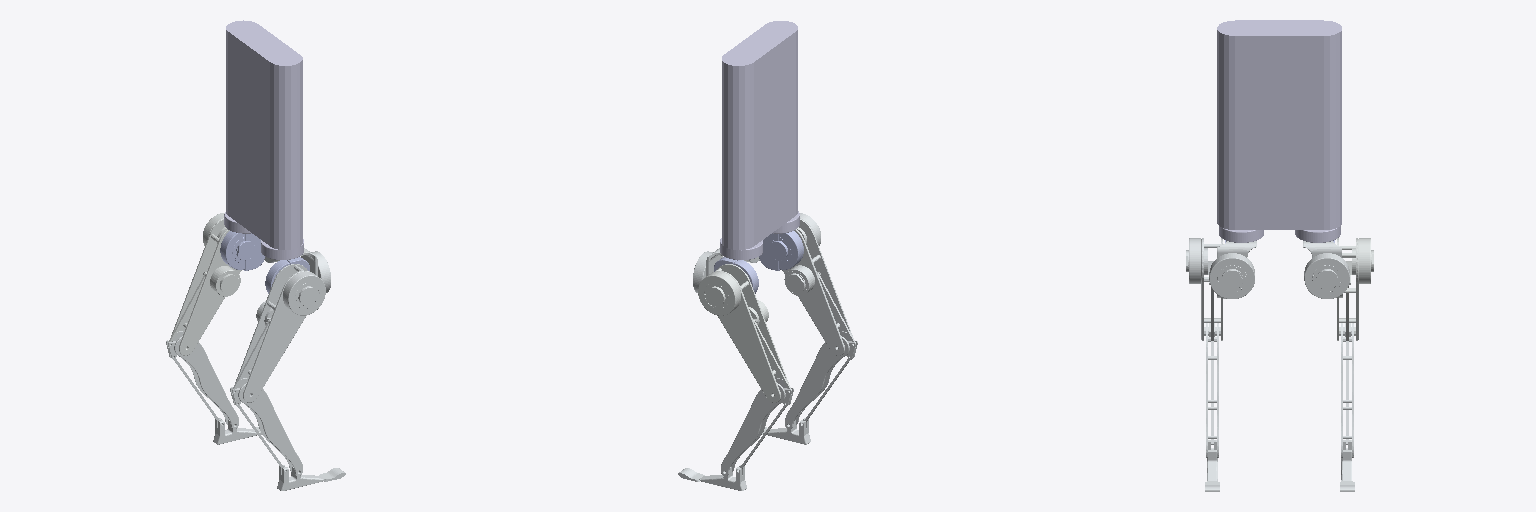
URDF robot description (human_robot_hector):
<?xml version="1.0" encoding="utf-8"?>
<!-- This URDF was automatically created by SolidWorks to URDF Exporter! Originally created by [author] ([email redacted]) 
     Commit Version: 1.6.0-4-g7f85cfe  Build Version: 1.6.7995.38578
     For more information, please see http://wiki.ros.org/sw_urdf_exporter -->
<robot
  name="human_robot_hector">
  <link
    name="base_link">
    <inertial>
      <origin
        xyz="-2.6714E-08 -2.6353E-07 -0.0065503"
        rpy="0 0 0" />
      <mass
        value="88.72" />
      <inertia
        ixx="4.6483"
        ixy="-1.0811E-07"
        ixz="6.5342E-08"
        iyy="3.659"
        iyz="6.4458E-07"
        izz="1.1897" />
    </inertial>
    <visual>
      <origin
        xyz="0 0 0"
        rpy="0 0 0" />
      <geometry>
        <mesh
          filename="package://human_robot_hector/meshes/base_link.STL" />
      </geometry>
      <material
        name="">
        <color
          rgba="0.83922 0.83922 0.92157 1" />
      </material>
    </visual>
    <collision>
      <origin
        xyz="0 0 0"
        rpy="0 0 0" />
      <geometry>
        <mesh
          filename="package://human_robot_hector/meshes/base_link.STL" />
      </geometry>
    </collision>
  </link>

  <link
    name="R_hip_Link">
    <inertial>
      <origin
        xyz="0.088278 -0.023018 -0.071371"
        rpy="0 0 0" />
      <mass
        value="1.4628" />
      <inertia
        ixx="0.0039716"
        ixy="0.0003283"
        ixz="0.00074132"
        iyy="0.0036146"
        iyz="-0.00033204"
        izz="0.0030335" />
    </inertial>
    <visual>
      <origin
        xyz="0 0 0"
        rpy="0 0 0" />
      <geometry>
        <mesh
          filename="package://human_robot_hector/meshes/R_hip_Link.STL" />
      </geometry>
      <material
        name="">
        <color
          rgba="0.89804 0.91765 0.92941 1" />
      </material>
    </visual>
    <collision>
      <origin
        xyz="0 0 0"
        rpy="0 0 0" />
      <geometry>
        <mesh
          filename="package://human_robot_hector/meshes/R_hip_Link.STL" />
      </geometry>
    </collision>
  </link>
  <joint
    name="R_hip_joint"
    type="revolute">
    <origin
      xyz="0 -0.125 -0.39"
      rpy="0 0 0" />
    <parent
      link="base_link" />
    <child
      link="R_hip_Link" />
    <axis
      xyz="0 0 1" />
      <limit effort="30" velocity="1.0" lower="-3.14" upper="3.14" />
  </joint>
  <link
    name="R_hip2_Link">
    <inertial>
      <origin
        xyz="0.0216 0.00020802 9.4489E-06"
        rpy="0 0 0" />
      <mass
        value="1.3887" />
      <inertia
        ixx="0.0030783"
        ixy="6.5918E-07"
        ixz="-3.6417E-07"
        iyy="0.0040557"
        iyz="-3.6085E-07"
        izz="0.0016242" />
    </inertial>
    <visual>
      <origin
        xyz="0 0 0"
        rpy="0 0 0" />
      <geometry>
        <mesh
          filename="package://human_robot_hector/meshes/R_hip2_Link.STL" />
      </geometry>
      <material
        name="">
        <color
          rgba="0.79216 0.81961 0.93333 1" />
      </material>
    </visual>
    <collision>
      <origin
        xyz="0 0 0"
        rpy="0 0 0" />
      <geometry>
        <mesh
          filename="package://human_robot_hector/meshes/R_hip2_Link.STL" />
      </geometry>
    </collision>
  </link>
  <joint
    name="R_hip2_joint"
    type="revolute">
    <origin
      xyz="0 -0.03 -0.1"
      rpy="0 0 0" />
    <parent
      link="R_hip_Link" />
    <child
      link="R_hip2_Link" />
    <axis
      xyz="1 0 0" />
      <limit effort="30" velocity="1.0" lower="-3.14" upper="3.14" />
  </joint>
  <link
    name="R_thigh_Link">
    <inertial>
      <origin
        xyz="-4.0045E-05 -0.0055364 -0.10619"
        rpy="0 0 0" />
      <mass
        value="3.9044" />
      <inertia
        ixx="0.04409"
        ixy="-1.418E-05"
        ixz="-2.3239E-05"
        iyy="0.045675"
        iyz="9.3539E-06"
        izz="0.0063298" />
    </inertial>
    <visual>
      <origin
        xyz="0 0 0"
        rpy="0 0 0" />
      <geometry>
        <mesh
          filename="package://human_robot_hector/meshes/R_thigh_Link.STL" />
      </geometry>
      <material
        name="">
        <color
          rgba="0.89804 0.91765 0.92941 1" />
      </material>
    </visual>
    <collision>
      <origin
        xyz="0 0 0"
        rpy="0 0 0" />
      <geometry>
        <mesh
          filename="package://human_robot_hector/meshes/R_thigh_Link.STL" />
      </geometry>
    </collision>
  </link>
  <joint
    name="R_thigh_joint"
    type="revolute">
    <origin
      xyz="0 -0.065 0"
      rpy="0 0.5236 0" />
    <parent
      link="R_hip2_Link" />
    <child
      link="R_thigh_Link" />
    <axis
      xyz="0 1 0" />
      <limit effort="30" velocity="1.0" lower="-3.14" upper="3.14" />
  </joint>
  <link
    name="R_calf_Link">
    <inertial>
      <origin
        xyz="0.0016938 1.4945E-06 -0.13884"
        rpy="0 0 0" />
      <mass
        value="1.0718" />
      <inertia
        ixx="0.014327"
        ixy="-2.9553E-09"
        ixz="-1.9753E-05"
        iyy="0.014368"
        iyz="-1.1081E-07"
        izz="0.00067215" />
    </inertial>
    <visual>
      <origin
        xyz="0 0 0"
        rpy="0 0 0" />
      <geometry>
        <mesh
          filename="package://human_robot_hector/meshes/R_calf_Link.STL" />
      </geometry>
      <material
        name="">
        <color
          rgba="0.89804 0.91765 0.92941 1" />
      </material>
    </visual>
    <collision>
      <origin
        xyz="0 0 0"
        rpy="0 0 0" />
      <geometry>
        <mesh
          filename="package://human_robot_hector/meshes/R_calf_Link.STL" />
      </geometry>
    </collision>
  </link>
  <joint
    name="R_calf_joint"
    type="revolute">
    <origin
      xyz="0 0 -0.4"
      rpy="0 -1.0472 0" />
    <parent
      link="R_thigh_Link" />
    <child
      link="R_calf_Link" />
    <axis
      xyz="0 1 0" />
      <limit effort="30" velocity="1.0" lower="-3.14" upper="3.14" />
  </joint>
  <link
    name="R_toe_Link">
    <inertial>
      <origin
        xyz="0.016527 6.3197E-06 -0.03492"
        rpy="0 0 0" />
      <mass
        value="0.46862" />
      <inertia
        ixx="0.00022464"
        ixy="-4.2581E-07"
        ixz="0.00021361"
        iyy="0.0013555"
        iyz="6.6812E-08"
        izz="0.0012556" />
    </inertial>
    <visual>
      <origin
        xyz="0 0 0"
        rpy="0 0 0" />
      <geometry>
        <mesh
          filename="package://human_robot_hector/meshes/R_toe_Link.STL" />
      </geometry>
      <material
        name="">
        <color
          rgba="0.89804 0.91765 0.92941 1" />
      </material>
    </visual>
    <collision>
      <origin
        xyz="0 0 0"
        rpy="0 0 0" />
      <geometry>
        <mesh
          filename="package://human_robot_hector/meshes/R_toe_Link.STL" />
      </geometry>
    </collision>
  </link>
  <joint
    name="R_toe_joint"
    type="revolute">
    <origin
      xyz="0 0 -0.4"
      rpy="0 0.5236 0" />
    <parent
      link="R_calf_Link" />
    <child
      link="R_toe_Link" />
    <axis
      xyz="0 1 0" />
      <limit effort="30" velocity="1.0" lower="-3.14" upper="3.14" />
  </joint>
  <link
    name="L_hip_Link">
    <inertial>
      <origin
        xyz="0.088278 0.02302 -0.071363"
        rpy="0 0 0" />
      <mass
        value="1.4628" />
      <inertia
        ixx="0.0039716"
        ixy="-0.00032837"
        ixz="0.00074099"
        iyy="0.0036148"
        iyz="0.00033237"
        izz="0.0030333" />
    </inertial>
    <visual>
      <origin
        xyz="0 0 0"
        rpy="0 0 0" />
      <geometry>
        <mesh
          filename="package://human_robot_hector/meshes/L_hip_Link.STL" />
      </geometry>
      <material
        name="">
        <color
          rgba="0.89804 0.91765 0.92941 1" />
      </material>
    </visual>
    <collision>
      <origin
        xyz="0 0 0"
        rpy="0 0 0" />
      <geometry>
        <mesh
          filename="package://human_robot_hector/meshes/L_hip_Link.STL" />
      </geometry>
    </collision>
  </link>
  <joint
    name="L_hip_joint"
    type="revolute">
    <origin
      xyz="0 0.125 -0.39"
      rpy="0 0 0" />
    <parent
      link="base_link" />
    <child
      link="L_hip_Link" />
    <axis
      xyz="0 0 1" />
      <limit effort="30" velocity="1.0" lower="-3.14" upper="3.14" />
  </joint>
  <link
    name="L_hip2_Link">
    <inertial>
      <origin
        xyz="0.021636 -0.00020817 -3.6813E-06"
        rpy="0 0 0" />
      <mass
        value="1.3887" />
      <inertia
        ixx="0.0030785"
        ixy="7.3859E-07"
        ixz="-1.6001E-07"
        iyy="0.0040557"
        iyz="-1.4123E-07"
        izz="0.001624" />
    </inertial>
    <visual>
      <origin
        xyz="0 0 0"
        rpy="0 0 0" />
      <geometry>
        <mesh
          filename="package://human_robot_hector/meshes/L_hip2_Link.STL" />
      </geometry>
      <material
        name="">
        <color
          rgba="0.79216 0.81961 0.93333 1" />
      </material>
    </visual>
    <collision>
      <origin
        xyz="0 0 0"
        rpy="0 0 0" />
      <geometry>
        <mesh
          filename="package://human_robot_hector/meshes/L_hip2_Link.STL" />
      </geometry>
    </collision>
  </link>
  <joint
    name="L_hip2_joint"
    type="revolute">
    <origin
      xyz="0 0.03 -0.1"
      rpy="0 0 0" />
    <parent
      link="L_hip_Link" />
    <child
      link="L_hip2_Link" />
    <axis
      xyz="1 0 0" />
      <limit effort="30" velocity="1.0" lower="-3.14" upper="3.14" />
  </joint>
  <link
    name="L_thigh_Link">
    <inertial>
      <origin
        xyz="0.00010967 0.0047236 -0.10618"
        rpy="0 0 0" />
      <mass
        value="3.9044" />
      <inertia
        ixx="0.04409"
        ixy="1.2741E-05"
        ixz="6.499E-05"
        iyy="0.045675"
        iyz="-8.791E-06"
        izz="0.0063299" />
    </inertial>
    <visual>
      <origin
        xyz="0 0 0"
        rpy="0 0 0" />
      <geometry>
        <mesh
          filename="package://human_robot_hector/meshes/L_thigh_Link.STL" />
      </geometry>
      <material
        name="">
        <color
          rgba="0.90196 0.92157 0.92157 1" />
      </material>
    </visual>
    <collision>
      <origin
        xyz="0 0 0"
        rpy="0 0 0" />
      <geometry>
        <mesh
          filename="package://human_robot_hector/meshes/L_thigh_Link.STL" />
      </geometry>
    </collision>
  </link>
  <joint
    name="L_thigh_joint"
    type="revolute">
    <origin
      xyz="0 0.06635 0"
      rpy="0 0.5236 0" />
    <parent
      link="L_hip2_Link" />
    <child
      link="L_thigh_Link" />
    <axis
      xyz="0 -1 0" />
      <limit effort="30" velocity="1.0" lower="-3.14" upper="3.14" />
  </joint>
  
  
  
  
  <link
    name="L_calf_Link">
    <inertial>
      <origin
        xyz="0.0016958 0.00069082 -0.13884"
        rpy="0 0 0" />
      <mass
        value="1.0718" />
      <inertia
        ixx="0.014327"
        ixy="2.1317E-07"
        ixz="-1.9555E-05"
        iyy="0.014367"
        iyz="6.8422E-05"
        izz="0.00067249" />
    </inertial>
    <visual>
      <origin
        xyz="0 0 0"
        rpy="0 0 0" />
      <geometry>
        <mesh
          filename="package://human_robot_hector/meshes/L_calf_Link.STL" />
      </geometry>
      <material
        name="">
        <color
          rgba="0.89804 0.91765 0.92941 1" />
      </material>
    </visual>
    <collision>
      <origin
        xyz="0 0 0"
        rpy="0 0 0" />
      <geometry>
        <mesh
          filename="package://human_robot_hector/meshes/L_calf_Link.STL" />
      </geometry>
    </collision>
  </link>
  <joint
    name="L_calf_joint"
    type="revolute">
    <origin
      xyz="0 0 -0.4"
      rpy="-0.0099996 -1.0472 0.0057731" />
    <parent
      link="L_thigh_Link" />
    <child
      link="L_calf_Link" />
    <axis
      xyz="-0.0028867 -0.99998 -0.0049999" />
      <limit effort="30" velocity="1.0" lower="-3.14" upper="3.14" />
  </joint>
  <link
    name="L_toe_Link">
    <inertial>
      <origin
        xyz="0.016527 0.00019512 -0.03492"
        rpy="0 0 0" />
      <mass
        value="0.46862" />
      <inertia
        ixx="0.00022464"
        ixy="-4.2581E-07"
        ixz="0.00021361"
        iyy="0.0013555"
        iyz="6.6812E-08"
        izz="0.0012556" />
    </inertial>
    <visual>
      <origin
        xyz="0 0 0"
        rpy="0 0 0" />
      <geometry>
        <mesh
          filename="package://human_robot_hector/meshes/L_toe_Link.STL" />
      </geometry>
      <material
        name="">
        <color
          rgba="0.89804 0.91765 0.92941 1" />
      </material>
    </visual>
    <collision>
      <origin
        xyz="0 0 0"
        rpy="0 0 0" />
      <geometry>
        <mesh
          filename="package://human_robot_hector/meshes/L_toe_Link.STL" />
      </geometry>
    </collision>
  </link>
  <joint
    name="L_toe_joint"
    type="revolute">
    <origin
      xyz="0 0 -0.4"
      rpy="0.0057734 0.52359 0" />
    <parent
      link="L_calf_Link" />
    <child
      link="L_toe_Link" />
    <axis
      xyz="0 1 0" />
      <limit effort="30" velocity="1.0" lower="-3.14" upper="3.14" />
  </joint>
</robot>

--- What the picture shows (computed from the rendered views, not written in the file) ---
The picture shows the robot from 3 angles, left to right: view 1: azimuth 30°, elevation 25°; view 2: azimuth 150°, elevation 25°; view 3: azimuth 270°, elevation 25°; orthographic projection.
Model human_robot_hector with 11 links and 10 joints (10 revolute), rooted at base_link, posed all joints at 0.
Links seen in each view (by area): view 1: base_link, R_thigh_Link, L_thigh_Link, R_calf_Link, L_calf_Link, L_hip2_Link, R_toe_Link, L_toe_Link, R_hip_Link; view 2: base_link, L_thigh_Link, R_thigh_Link, R_calf_Link, L_calf_Link, R_hip2_Link, L_toe_Link, R_toe_Link, L_hip_Link; view 3: base_link, R_hip_Link, L_hip_Link, L_thigh_Link, R_thigh_Link, R_calf_Link, L_calf_Link, L_toe_Link, R_toe_Link.
Boxes of the visible links, bbox=[...] form: base_link: bbox=[224, 20, 303, 259]; R_thigh_Link: bbox=[233, 264, 325, 402]; L_thigh_Link: bbox=[169, 213, 241, 355]; R_calf_Link: bbox=[230, 378, 302, 475]; L_calf_Link: bbox=[166, 331, 238, 428]; L_hip2_Link: bbox=[220, 231, 264, 270]; R_toe_Link: bbox=[277, 465, 345, 490]; L_toe_Link: bbox=[213, 418, 261, 444]; R_hip_Link: bbox=[301, 248, 330, 292]; base_link: bbox=[720, 21, 799, 259]; L_thigh_Link: bbox=[698, 264, 790, 402]; R_thigh_Link: bbox=[782, 213, 854, 355]; R_calf_Link: bbox=[785, 331, 857, 428]; L_calf_Link: bbox=[721, 378, 793, 475]; R_hip2_Link: bbox=[759, 231, 803, 270]; L_toe_Link: bbox=[678, 465, 746, 490]; R_toe_Link: bbox=[762, 418, 810, 444]; L_hip_Link: bbox=[693, 248, 722, 292]; base_link: bbox=[1217, 20, 1341, 242]; R_hip_Link: bbox=[1209, 241, 1256, 298]; L_hip_Link: bbox=[1303, 241, 1349, 298]; L_thigh_Link: bbox=[1337, 238, 1373, 340]; R_thigh_Link: bbox=[1186, 238, 1225, 340]; R_calf_Link: bbox=[1206, 323, 1218, 457]; L_calf_Link: bbox=[1341, 323, 1353, 457]; L_toe_Link: bbox=[1340, 440, 1354, 491]; R_toe_Link: bbox=[1205, 440, 1219, 491].
Size in the robot's own frame: 0.4427 by 0.6161 by 1.59 metres.
11 mesh visuals loaded from 11 distinct referenced files (11 binary STL).
